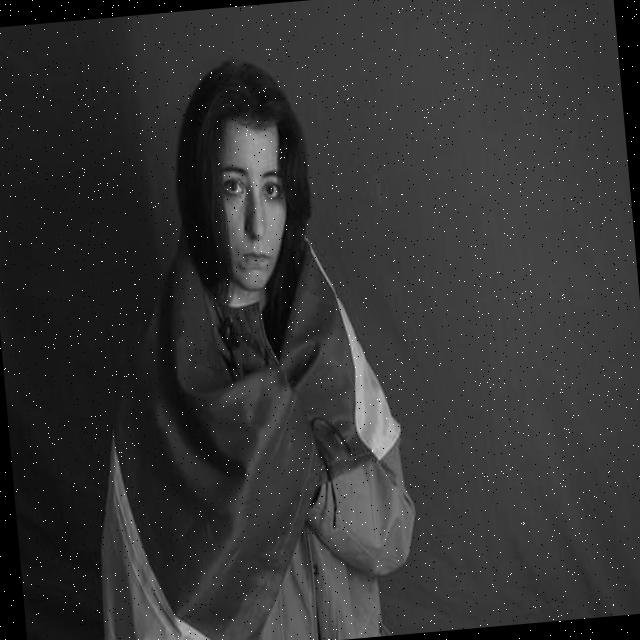Fear: (214, 120, 292, 294)
